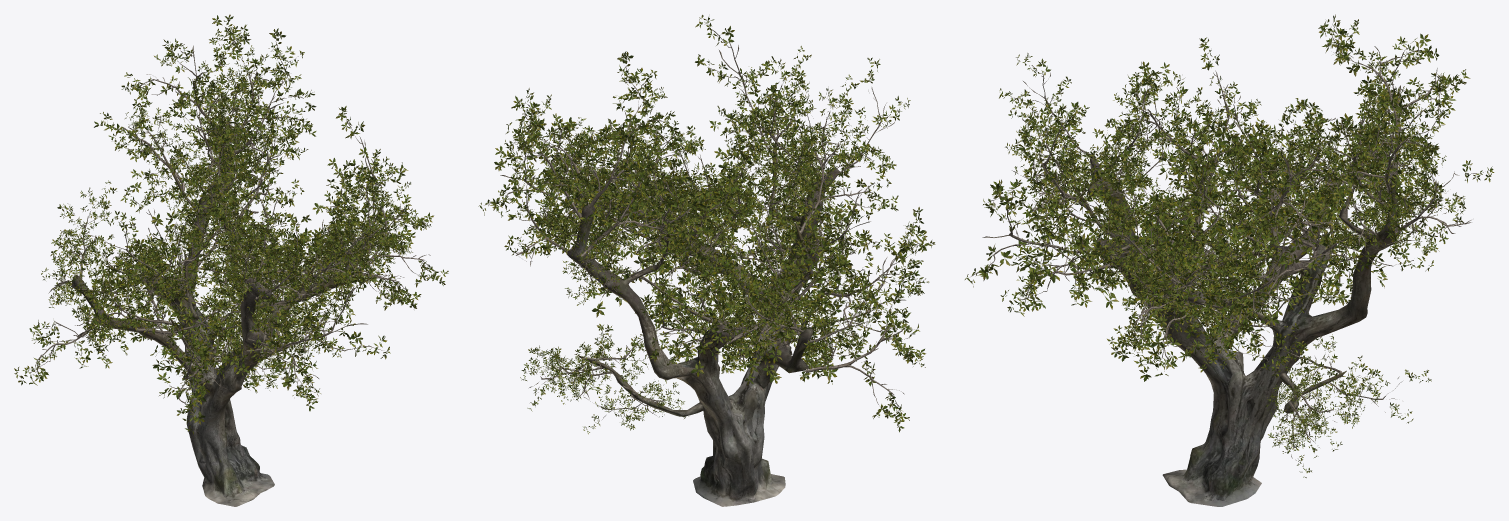
File: island_tree_01.glb
3 views of the same model, side by side, from view 1: azimuth 30°, elevation 25°; view 2: azimuth 150°, elevation 25°; view 3: azimuth 270°, elevation 25° (orthographic). The views are drawn at different scales.
Visible parts, largest first — view 1: island_tree_01_LOD0; view 2: island_tree_01_LOD0; view 3: island_tree_01_LOD0.
Boxes of the visible parts, x1,y1,x2,y2 form: island_tree_01_LOD0: (14,14,448,506); island_tree_01_LOD0: (478,15,935,506); island_tree_01_LOD0: (965,14,1494,506).
Bounding box in the file's own units: 4.75 × 5.02 × 4.82.
3 materials, 3 textured.
